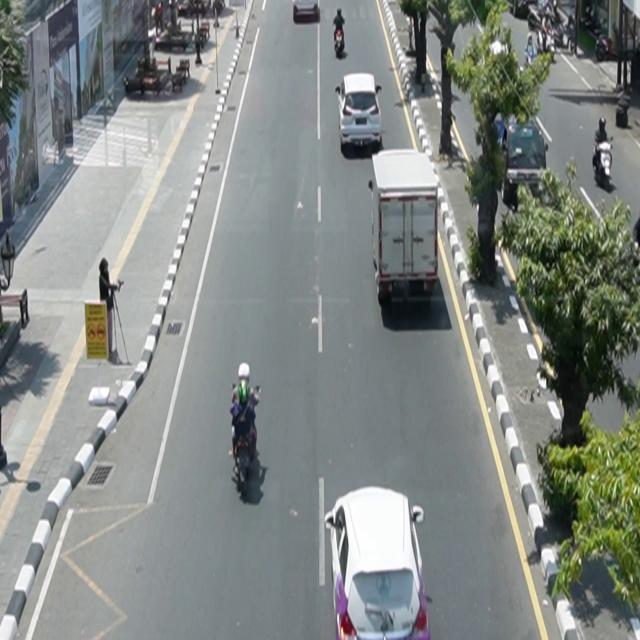car: (325, 487, 432, 640), (336, 73, 383, 152), (294, 1, 321, 23)
truck: (369, 148, 440, 307)
